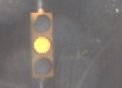Yellow: (20, 5, 65, 86)
